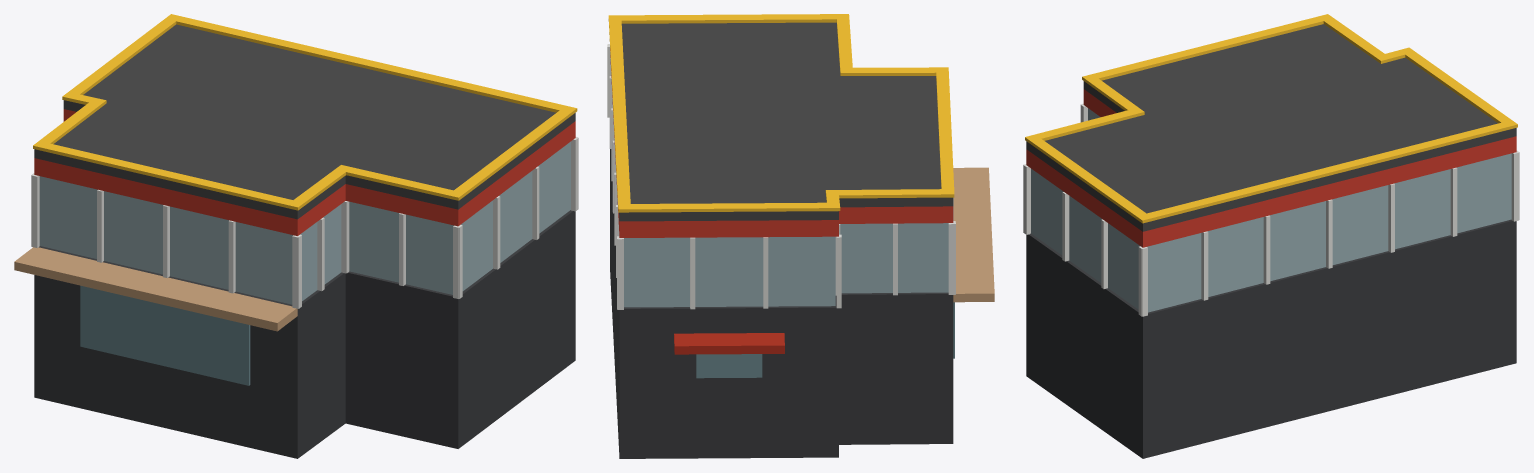
Rendered from mcdonalds-zhongqing2.glb.
The picture shows the model from 3 angles, left to right: view 1: azimuth 30°, elevation 25°; view 2: azimuth 150°, elevation 25°; view 3: azimuth 270°, elevation 25°; orthographic projection. The views are drawn at different scales.
Parts seen in each view (by area): view 1: mcdonalds-zhongqing2; view 2: mcdonalds-zhongqing2; view 3: mcdonalds-zhongqing2.
Boxes of the visible parts, box(x1,y1,x2,y2) form: mcdonalds-zhongqing2: box(14, 14, 578, 458); mcdonalds-zhongqing2: box(607, 14, 994, 458); mcdonalds-zhongqing2: box(1023, 14, 1519, 458).
Bounding box in the file's own units: 23.78 × 12 × 22.57.
